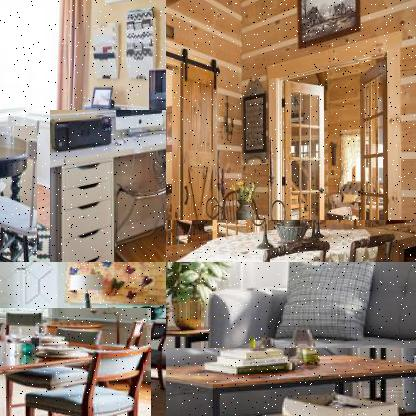table: (50, 110, 165, 261), (166, 348, 415, 415), (0, 308, 153, 415), (0, 126, 39, 261)
